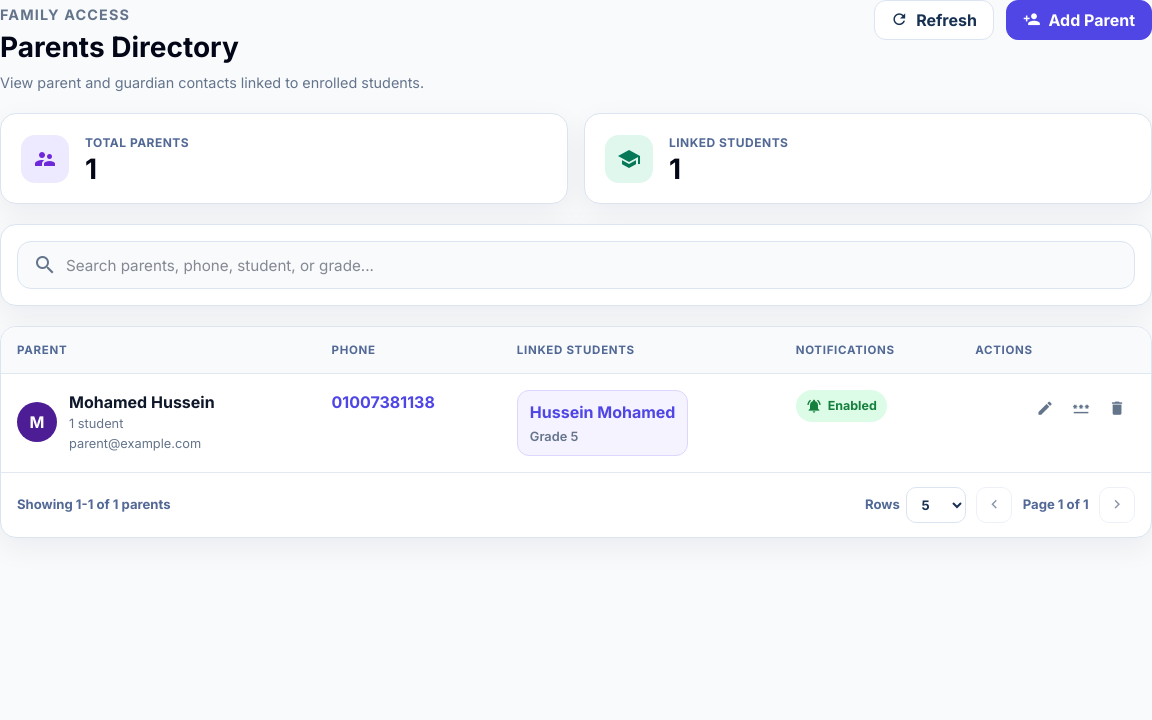
Test: TenantParentsComponent › opens the parent password modal from the row action
The image size is (1152, 720).
Click the button titled "Change Password". click: (1081, 408)
box: [1063, 390, 1099, 426]
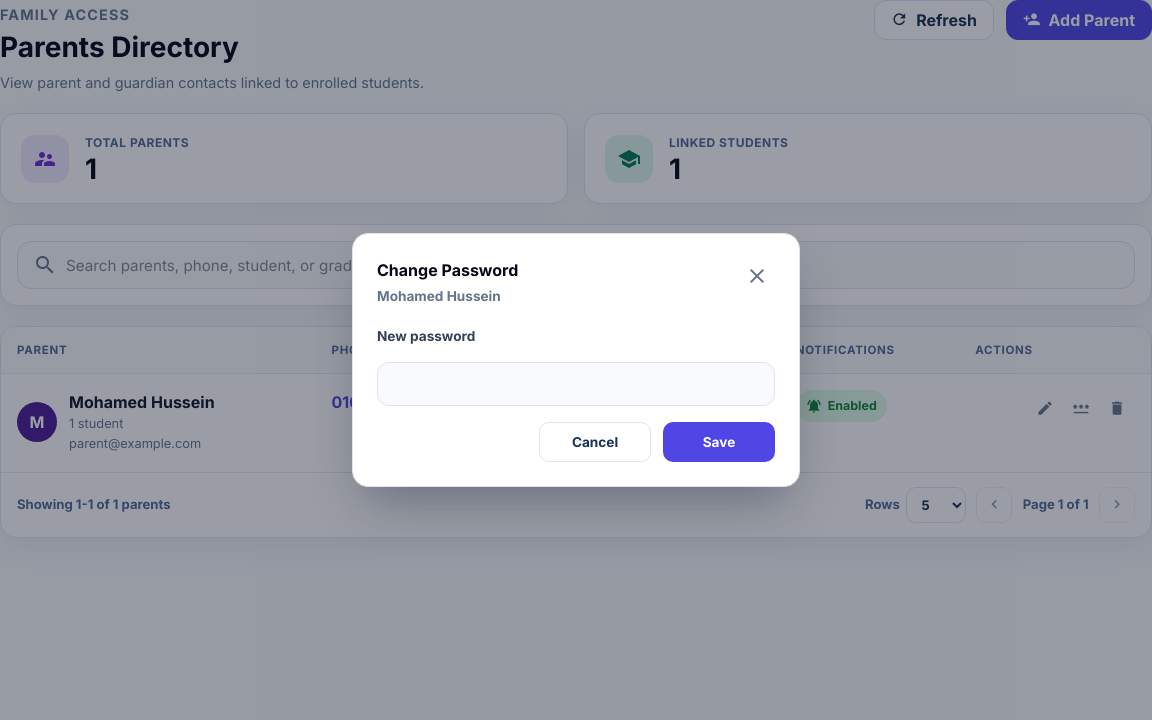
Expected: the text "Mohamed Hussein" is shown, [69, 390, 215, 414]
Now the text "Change Password" is shown, box [377, 258, 518, 282]
Now the password field labelled "New password" is shown, box [377, 362, 775, 406]
